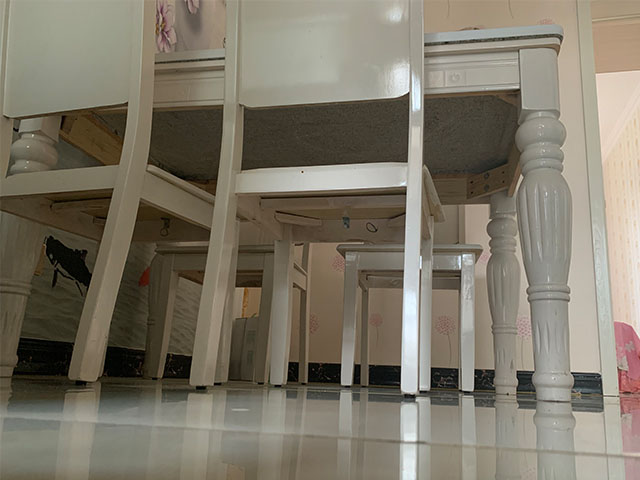stool: (187, 1, 448, 400), (3, 1, 241, 386), (334, 203, 485, 395), (141, 238, 313, 388)
table: (1, 22, 576, 404)
